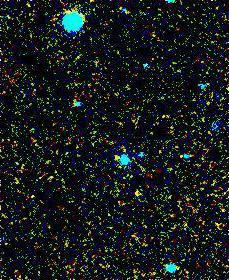star: (108, 139, 138, 169)
